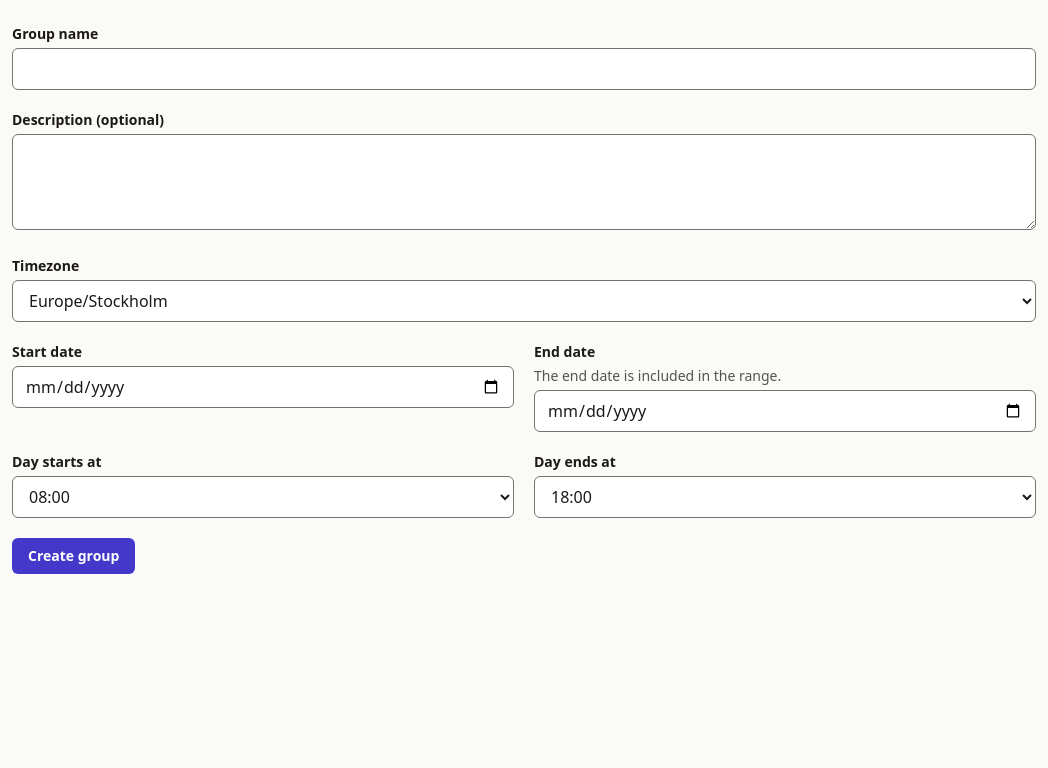
CreateGroupForm › sends one request for a rapid double click
The width and height of the screenshot is (1048, 768).
Step 1. Type "Algorithms study group" into the field labelled "Group name" → coordinates (524, 69), box [12,48,1036,90]
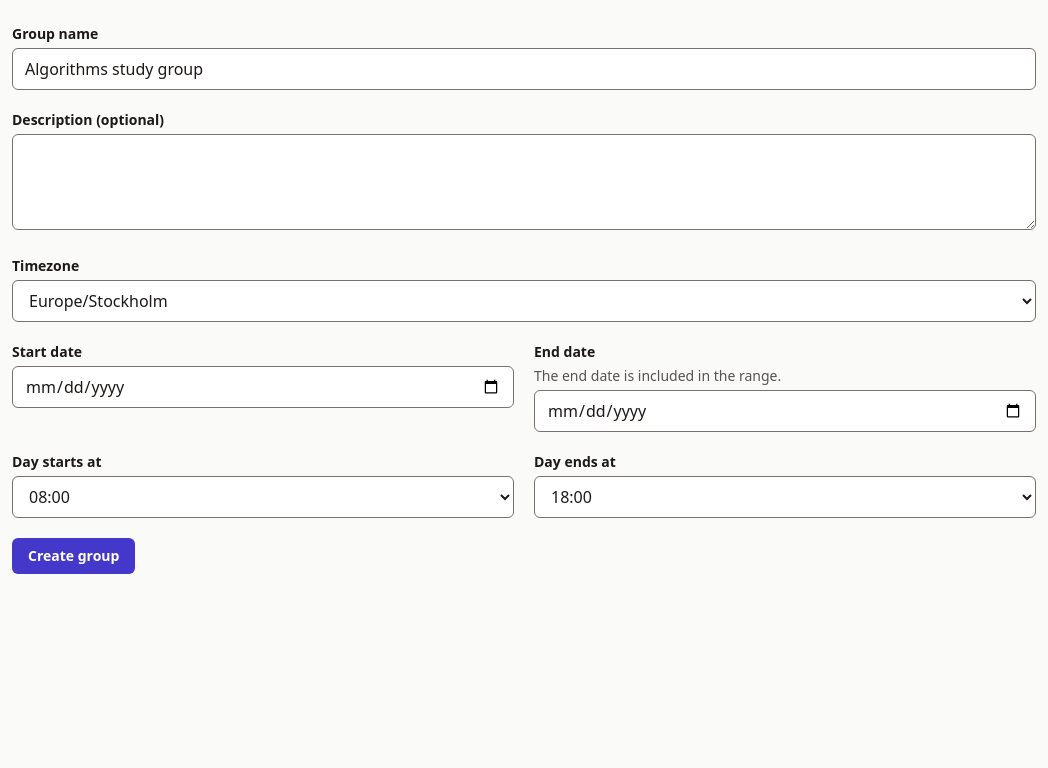
Step 2. Type "2026-10-01" into the date field labelled "Start date" → coordinates (263, 387), box [12,366,514,408]
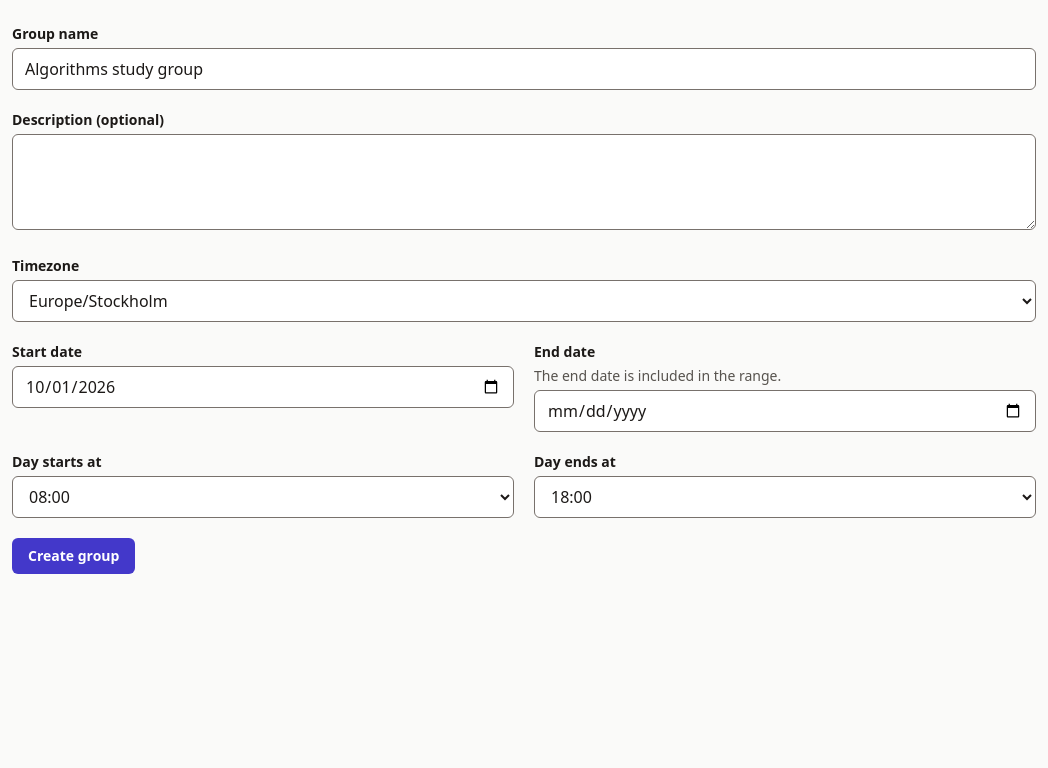
Step 3. Type "2026-10-05" into the date field labelled "End date" → coordinates (785, 411), box [534,390,1036,432]
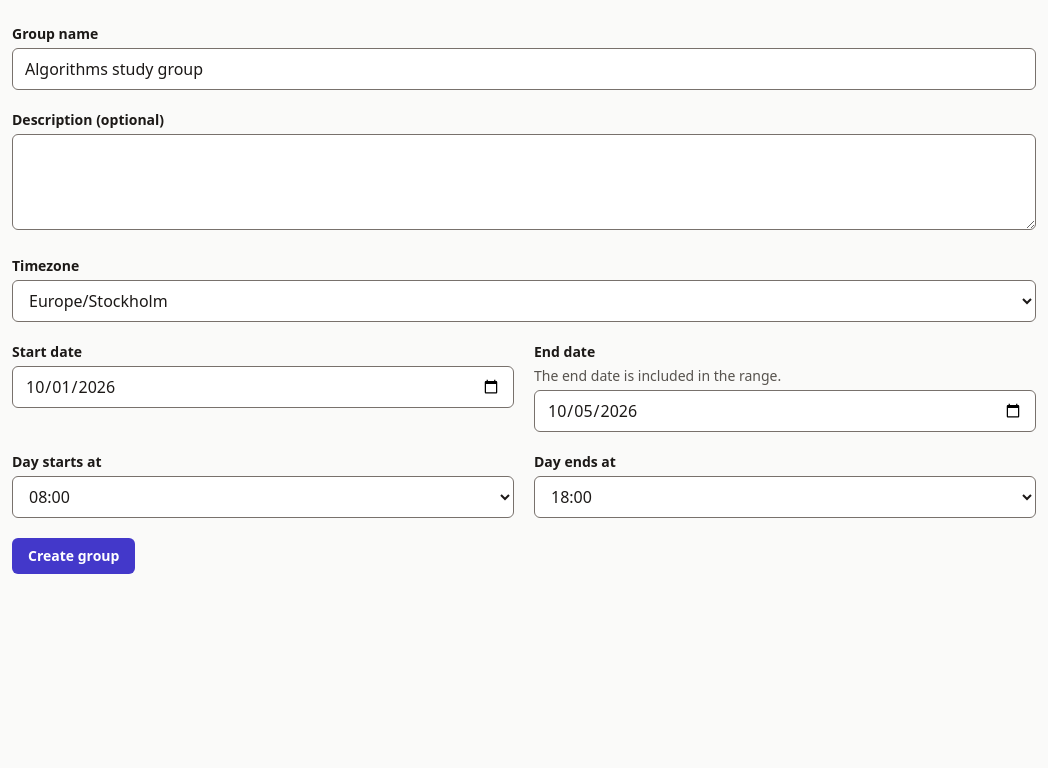
Step 4. Click the button "Create group" → coordinates (74, 556), box [12,538,135,574]
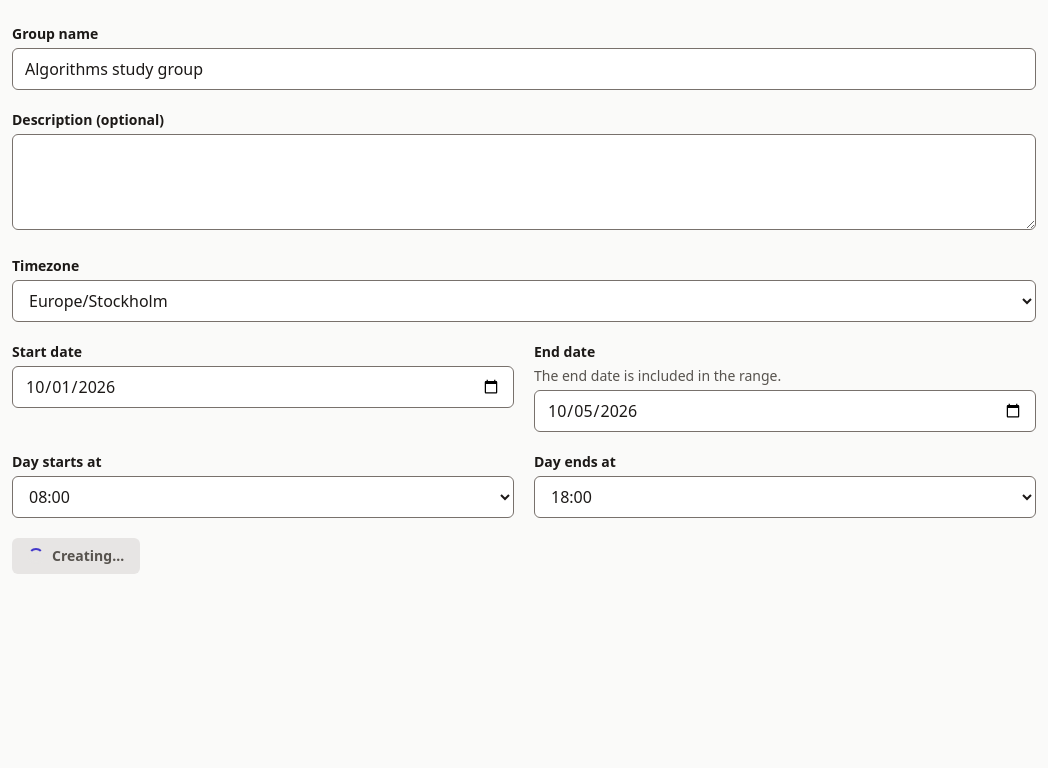
Step 5. Click the button named "Create group" → coordinates (76, 556), box [12,538,140,574]
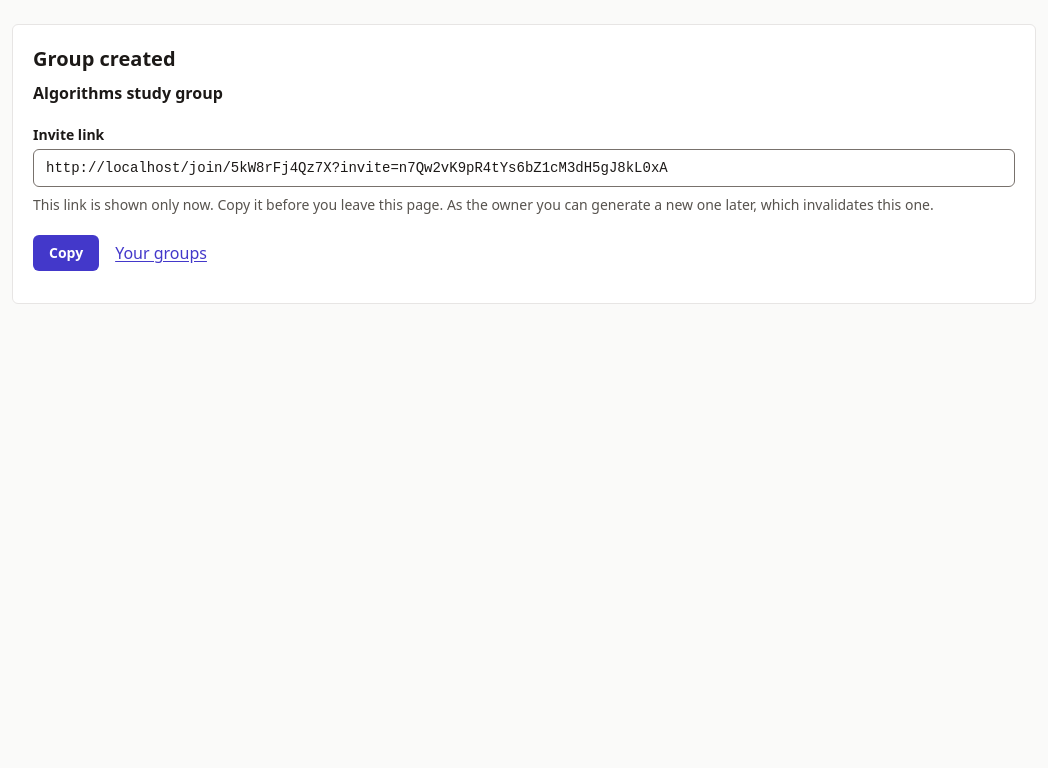
Check: the heading "Group created" is shown, box [33,45,176,72]
